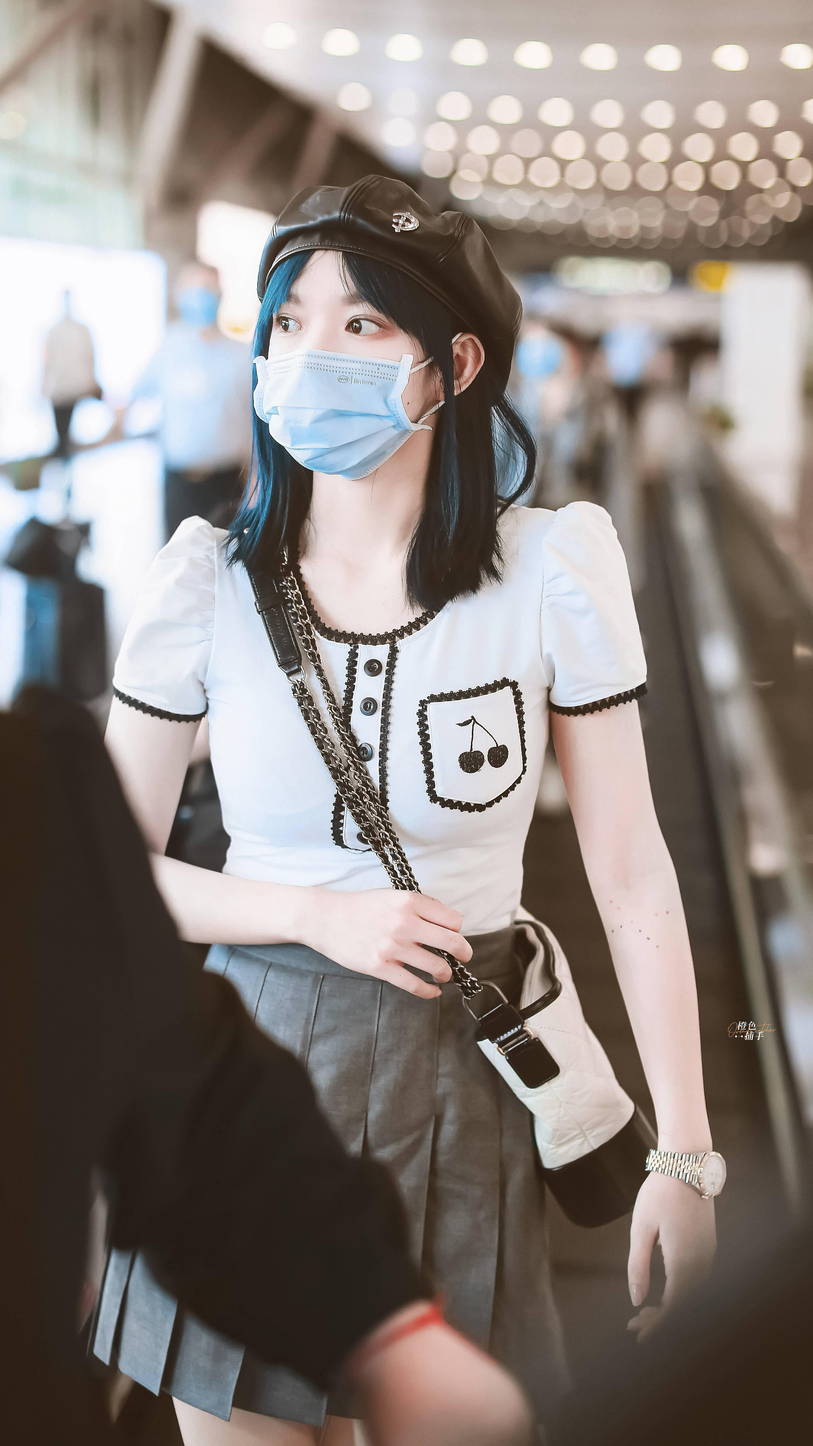OK: (262, 260, 427, 475)
